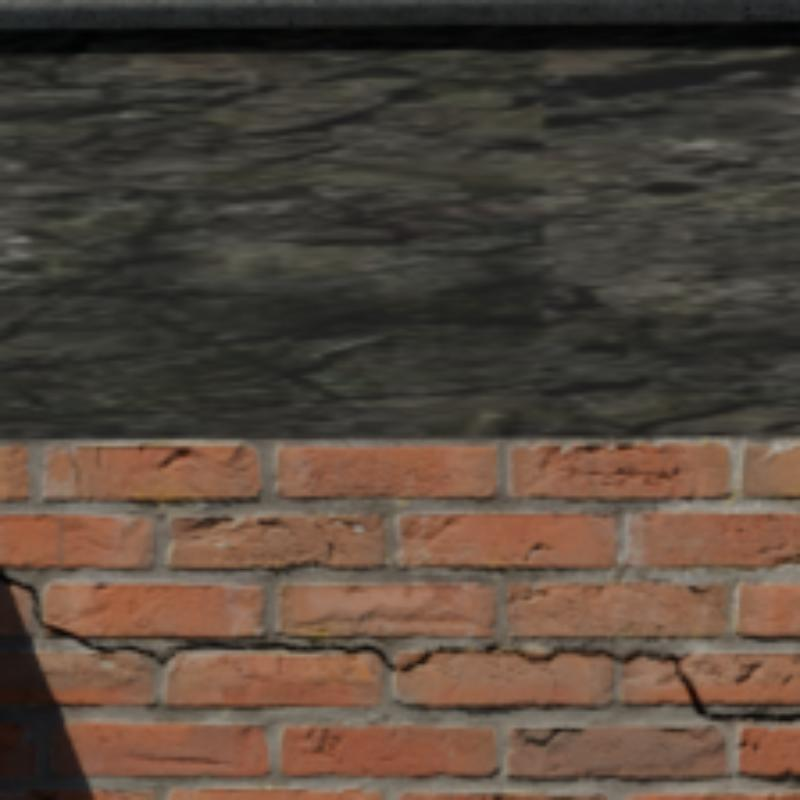crack: (179, 643, 509, 668), (0, 571, 92, 645), (679, 666, 796, 718), (94, 643, 173, 661), (521, 646, 611, 661), (611, 650, 677, 662)
